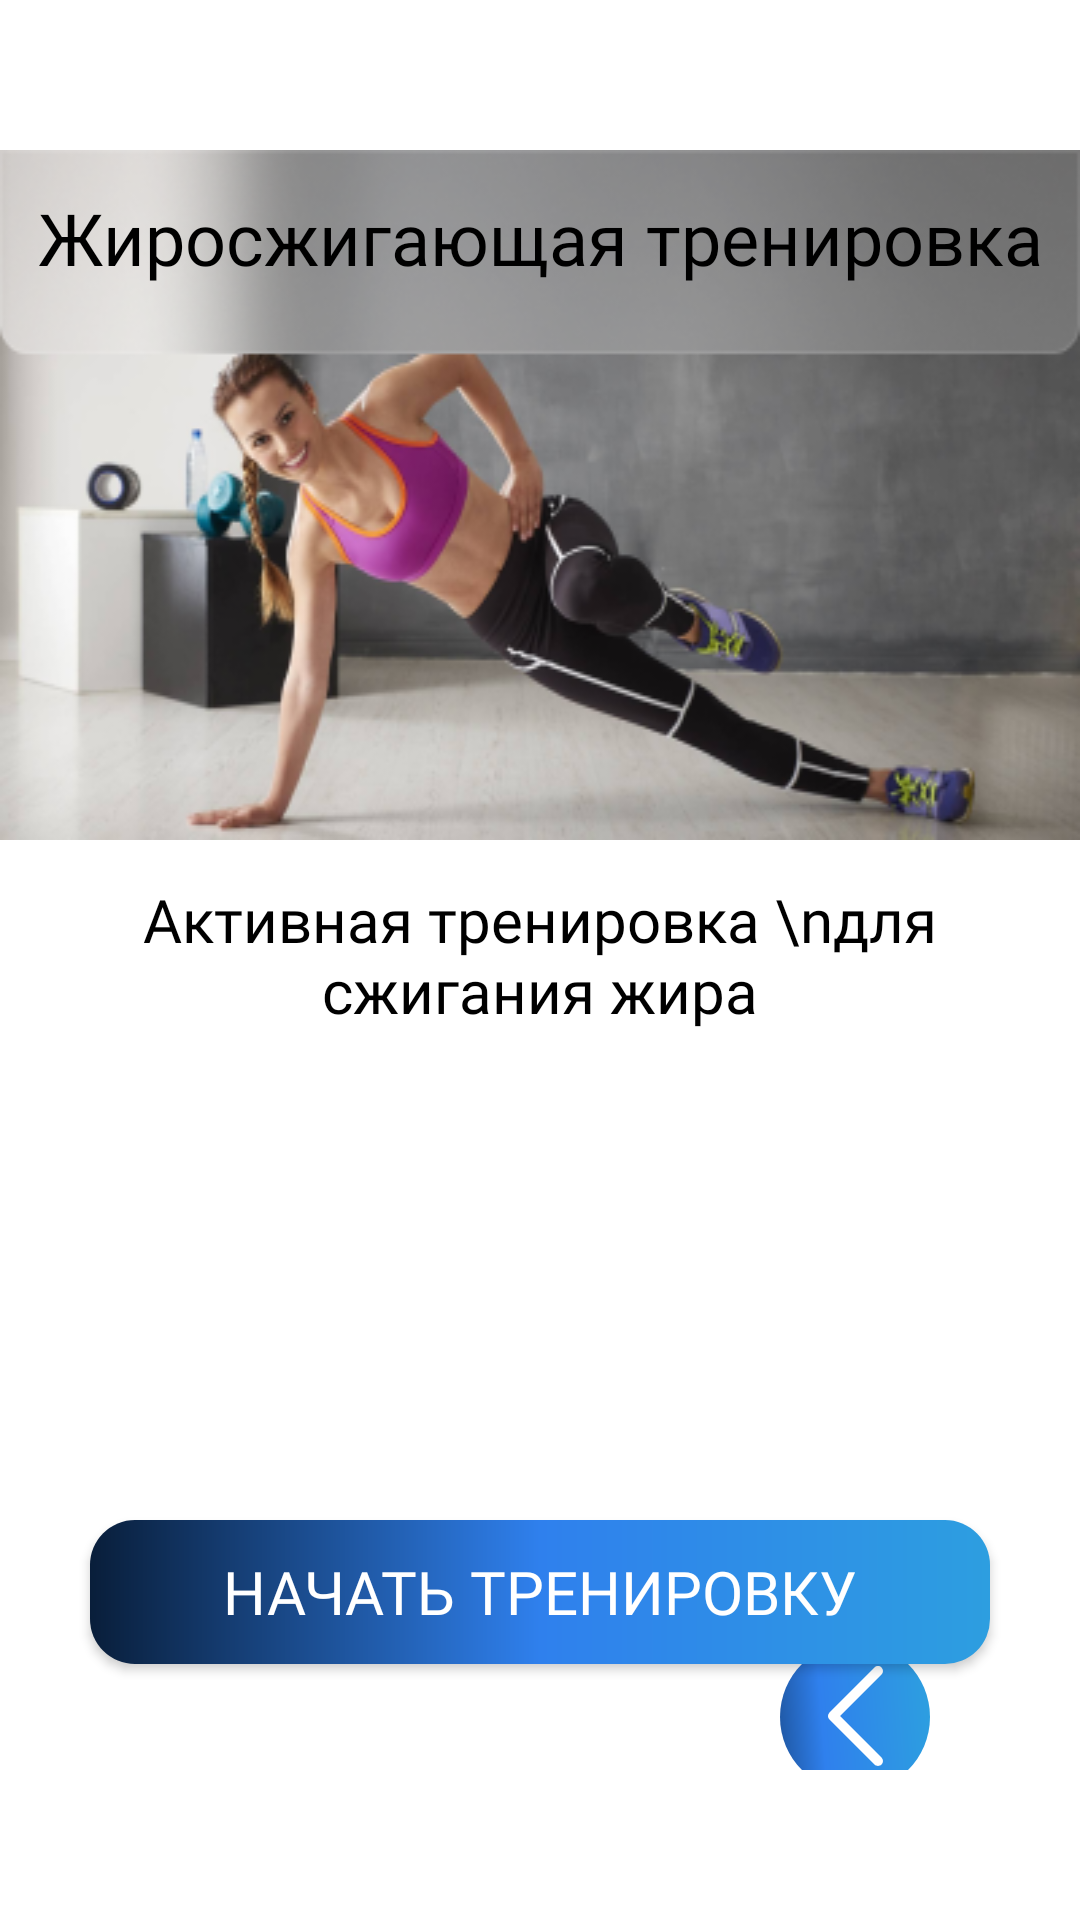

Point at icon controls on the screen. Image size 1080*1920, points as point (x, y).
back: point (855, 1717)
